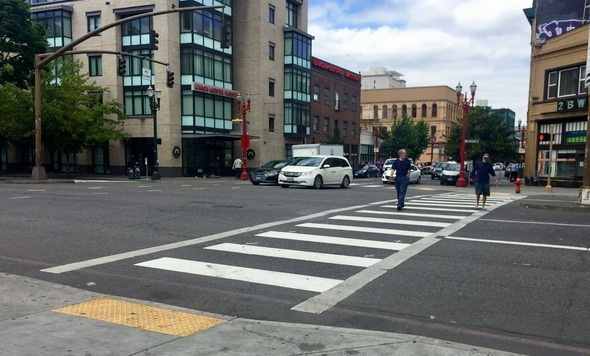car: (252, 155, 353, 188)
crosswalk: (47, 196, 520, 319)
pedestrian_stop: (537, 132, 549, 143)
person: (470, 153, 498, 208), (389, 149, 410, 210)
pole: (31, 5, 225, 179), (148, 83, 160, 179), (547, 139, 551, 192)
